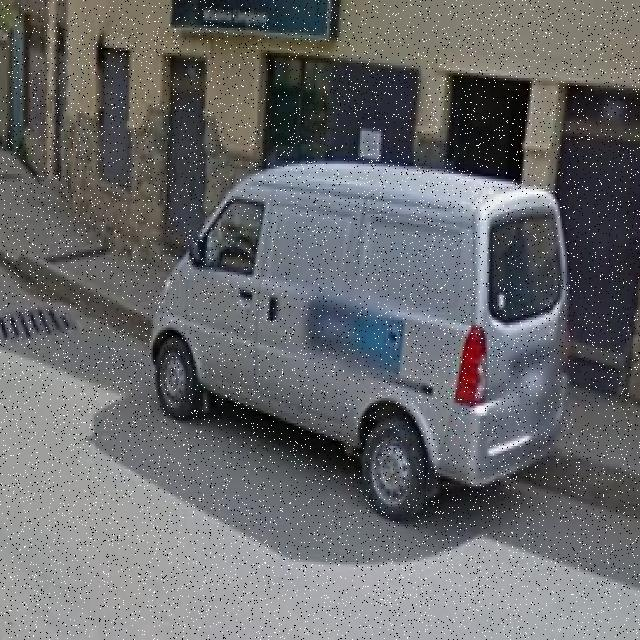cars: (145, 175, 576, 512)
